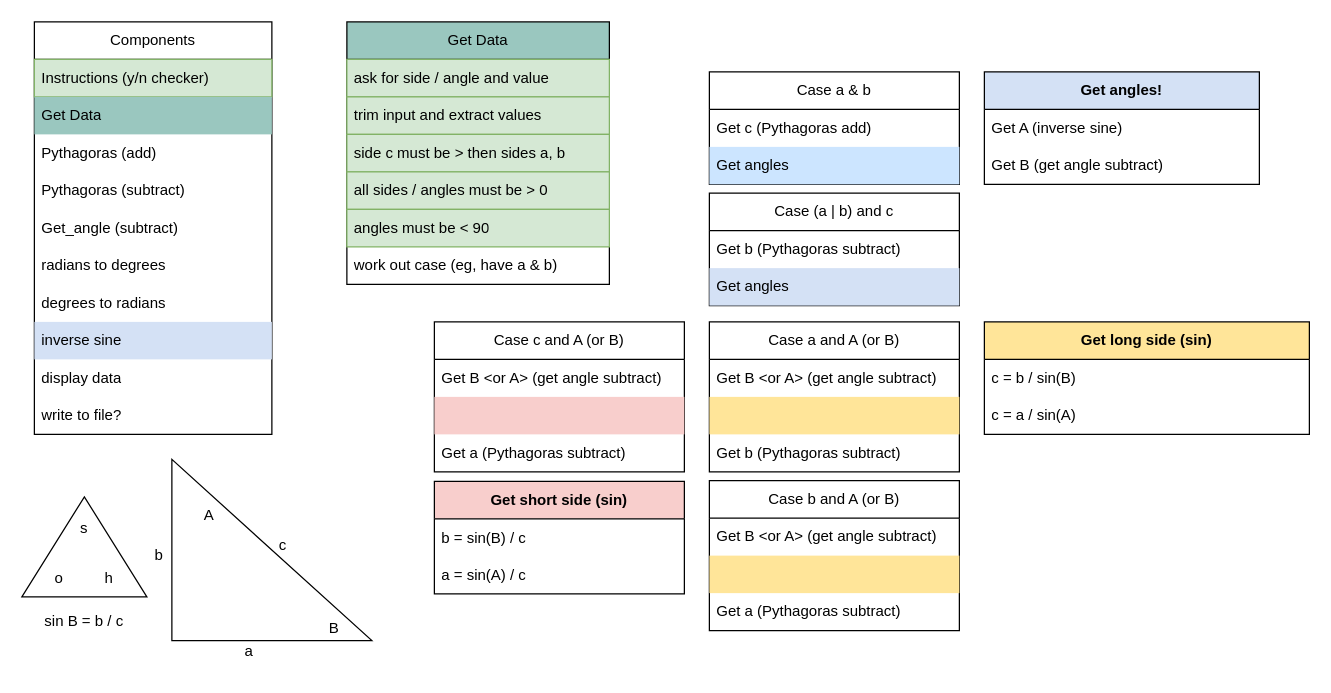
This 1331x693 diagram has some shape labels left out. The centre of each missing label's shape, as x and y in pixels:
"Get b (sine) <get long side>" goes at point (834, 573).
"Get b (sine) <get short side>" goes at point (559, 415).
"Get c (sine) <get long side, sin>" goes at point (834, 415).
